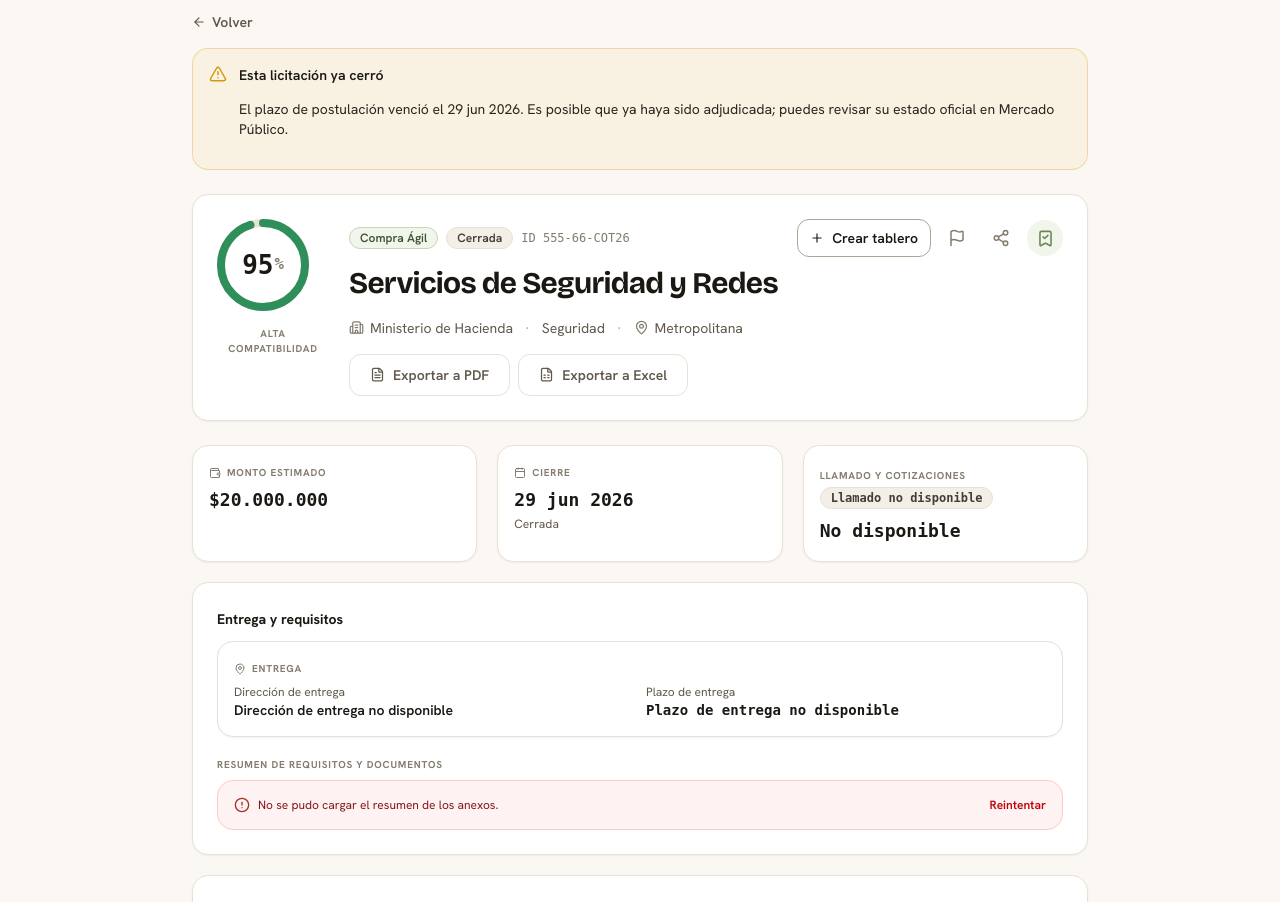
Test case: TenderDetailView (CA-5: Rollback y notificación en error de red) › aplica rollback al estado previo y muestra alerta ante fallo al quitar licitación guardada
Expected: the heading "Servicios de Seguridad y Redes" is shown, 349,265 -> 778,301
Click the button named "Quitar de licitaciones guardadas" at point(1045, 238), box 1027,220 -> 1063,256
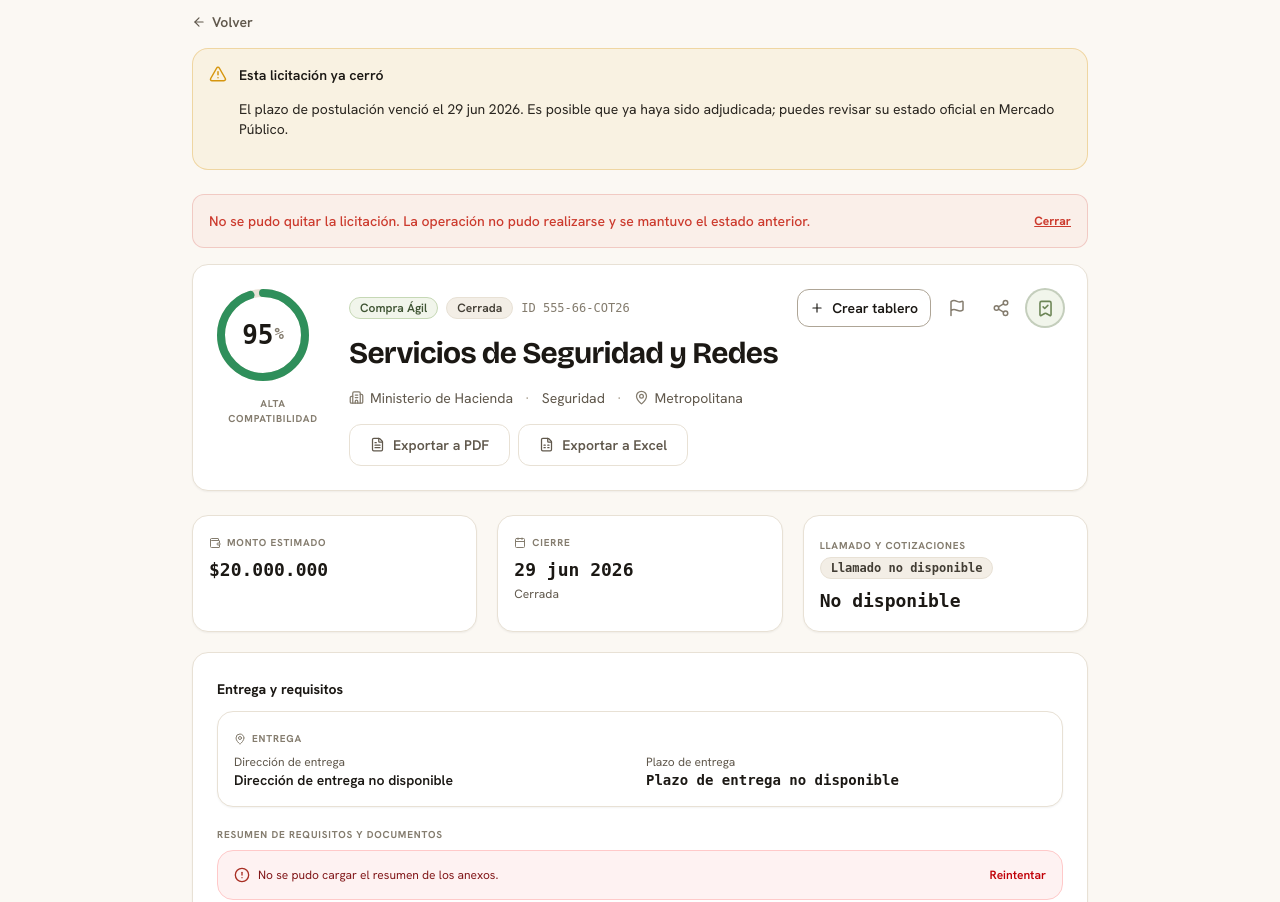
Expected: the button named "Quitar de licitaciones guardadas" is shown, 1027,290 -> 1063,326
Now the text "No se pudo quitar la licitación. La operación no pudo realizarse y se mantuvo el estado anterior." is shown, box 209,212 -> 810,230
